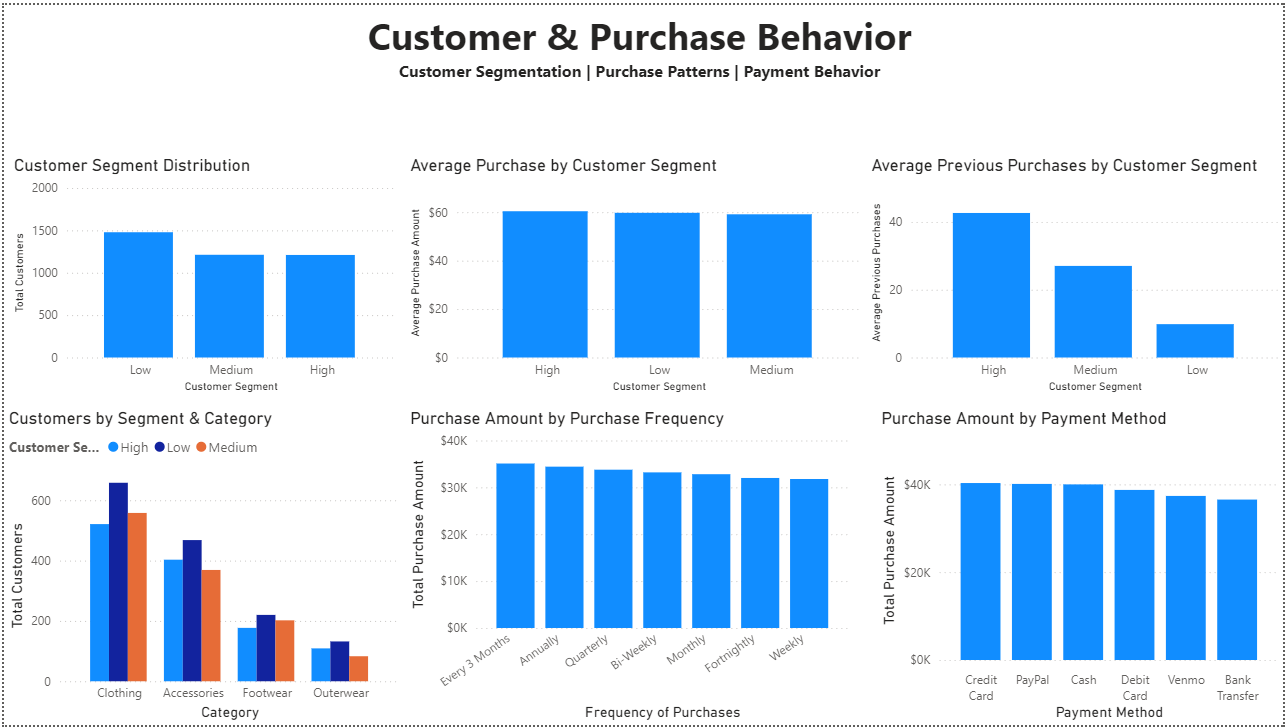

What the dashboard file says about the page in this screenshot:
{"tool":"powerbi","page":{"name":"Customer & Purchase Behavior","canvas":[1280,720],"ordinal":1},"visuals":[{"type":"clusteredColumnChart","title":"Customer Segment Distribution","fields":{"Category":["customer_shopping_behavior_cleaned.Customer Segment"],"Y":["customer_shopping_behavior_cleaned.Total Customers"]},"box":[5,150,391.2,242.5],"z":0},{"type":"clusteredColumnChart","title":"Average Purchase by Customer Segment","fields":{"Category":["customer_shopping_behavior_cleaned.Customer Segment"],"Y":["customer_shopping_behavior_cleaned.Average Purchase Amount"]},"box":[401.2,150,461.2,242.5],"z":1000},{"type":"clusteredColumnChart","fields":{"Category":["customer_shopping_behavior_cleaned.Customer Segment"],"Y":["customer_shopping_behavior_cleaned.Average Previous Purchases"]},"box":[862.5,150,417.5,242.5],"z":2000},{"type":"clusteredColumnChart","title":"Customers by Segment & Category","fields":{"Category":["customer_shopping_behavior_cleaned.Category"],"Y":["customer_shopping_behavior_cleaned.Total Customers"],"Series":["customer_shopping_behavior_cleaned.Customer Segment"]},"box":[0,402.5,401.2,317.5],"z":3000},{"type":"clusteredColumnChart","title":"Purchase Amount by Purchase Frequency","fields":{"Category":["customer_shopping_behavior_cleaned.Frequency of Purchases"],"Y":["customer_shopping_behavior_cleaned.Total Purchase Amount"]},"box":[401.2,402.5,448.8,317.5],"z":4000},{"type":"clusteredColumnChart","title":"Purchase Amount by Payment Method","fields":{"Category":["customer_shopping_behavior_cleaned.Payment Method"],"Y":["customer_shopping_behavior_cleaned.Total Purchase Amount"]},"box":[872.5,402.5,407.5,317.5],"z":5000},{"type":"textbox","box":[0,0,1271.2,82.5],"z":5001}]}

Visuals, with their boxes in screenshot pixels (x1, y1, x2, y2), scaled from the page's 1280x720 canvas onto the 1287x727 screenshot:
"Customer Segment Distribution" clusteredColumnChart: l=5, t=151, r=398, b=396
"Average Purchase by Customer Segment" clusteredColumnChart: l=403, t=151, r=867, b=396
clusteredColumnChart - customer_shopping_behavior_cleaned.Customer Segment x customer_shopping_behavior_cleaned.Average Previous Purchases: l=867, t=151, r=1286, b=396
"Customers by Segment & Category" clusteredColumnChart: l=0, t=406, r=403, b=726
"Purchase Amount by Purchase Frequency" clusteredColumnChart: l=403, t=406, r=855, b=726
"Purchase Amount by Payment Method" clusteredColumnChart: l=877, t=406, r=1286, b=726
textbox: l=0, t=0, r=1278, b=83
